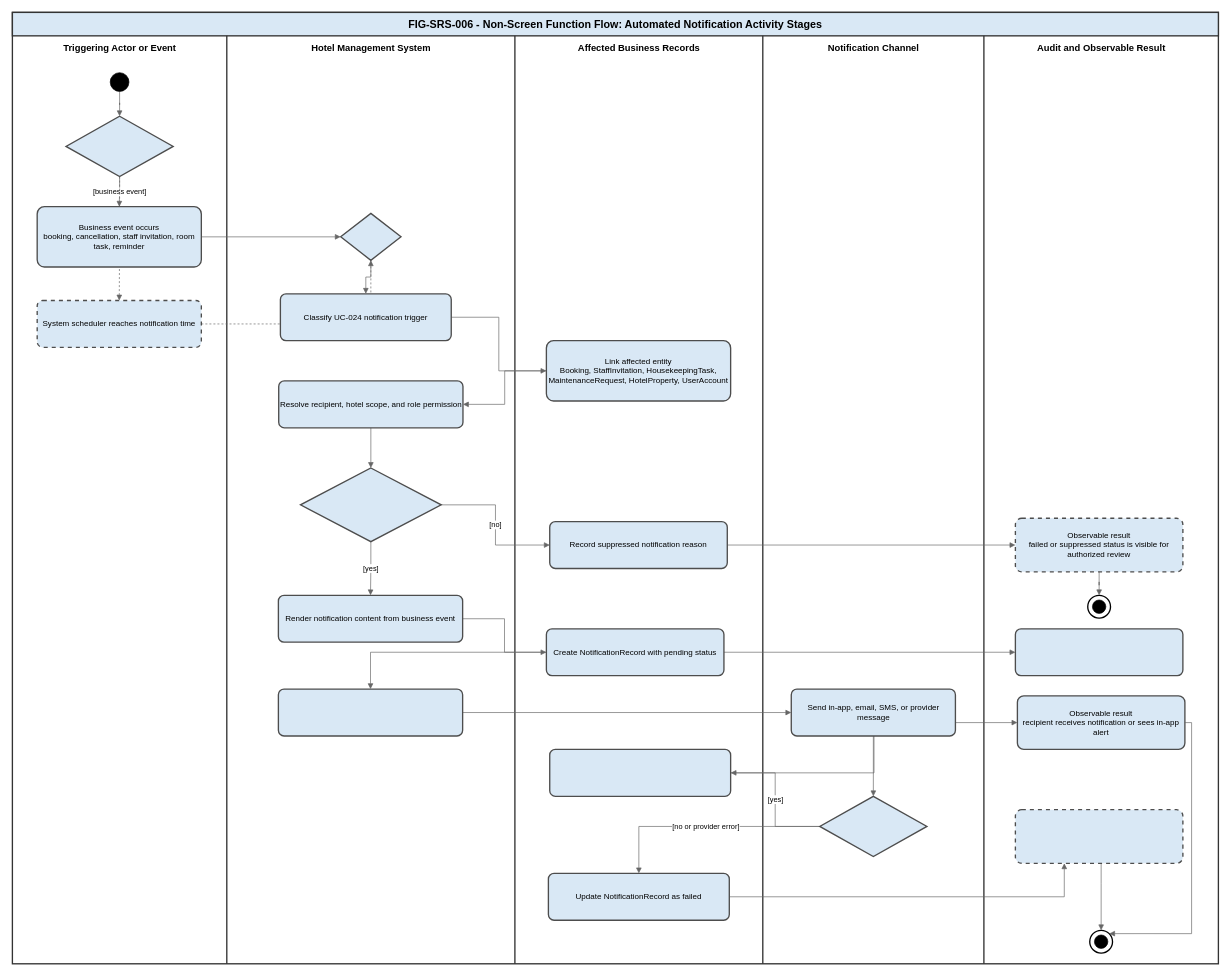
Some shapes in this 1230 by 976 pixel diagram are drawn without their labels. Here are the shapes that lost their labels. From the top down, the box of each, then its label:
(65, 115, 174, 177): Trigger type?
(299, 467, 442, 542): Recipient valid and notification allowed?
(1014, 628, 1183, 676): Create AuditRecord for notification event
(277, 688, 463, 736): Dispatch notification through configured channel
(549, 748, 731, 797): Update NotificationRecord as sent or delivered
(819, 795, 927, 857): Delivered?
(1014, 809, 1183, 864): Observable result failed status is visible for authorized review
